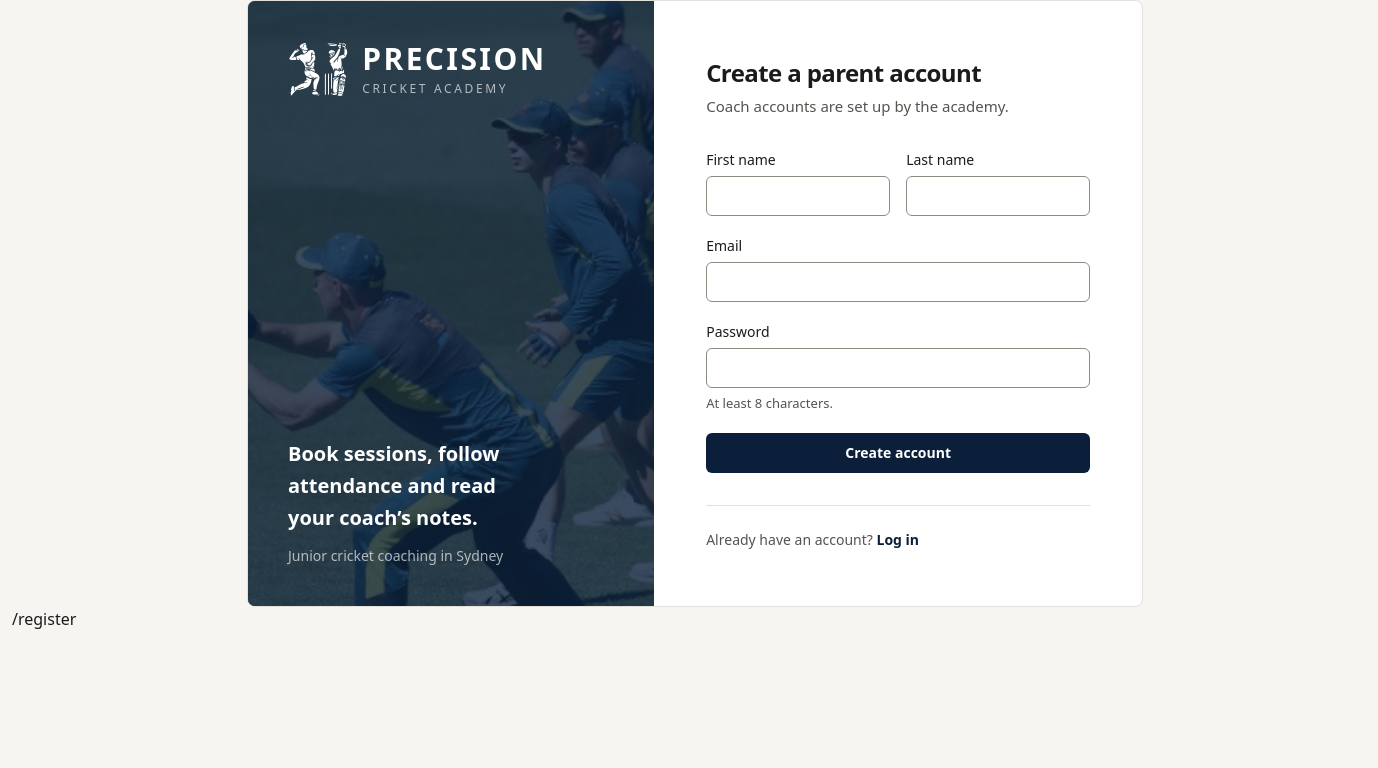
Test: RegisterPage › checks the password length before sending anything
The width and height of the screenshot is (1378, 768).
Type "Alex" into the field labelled "First name" at (798, 196), box [706,176,890,216]
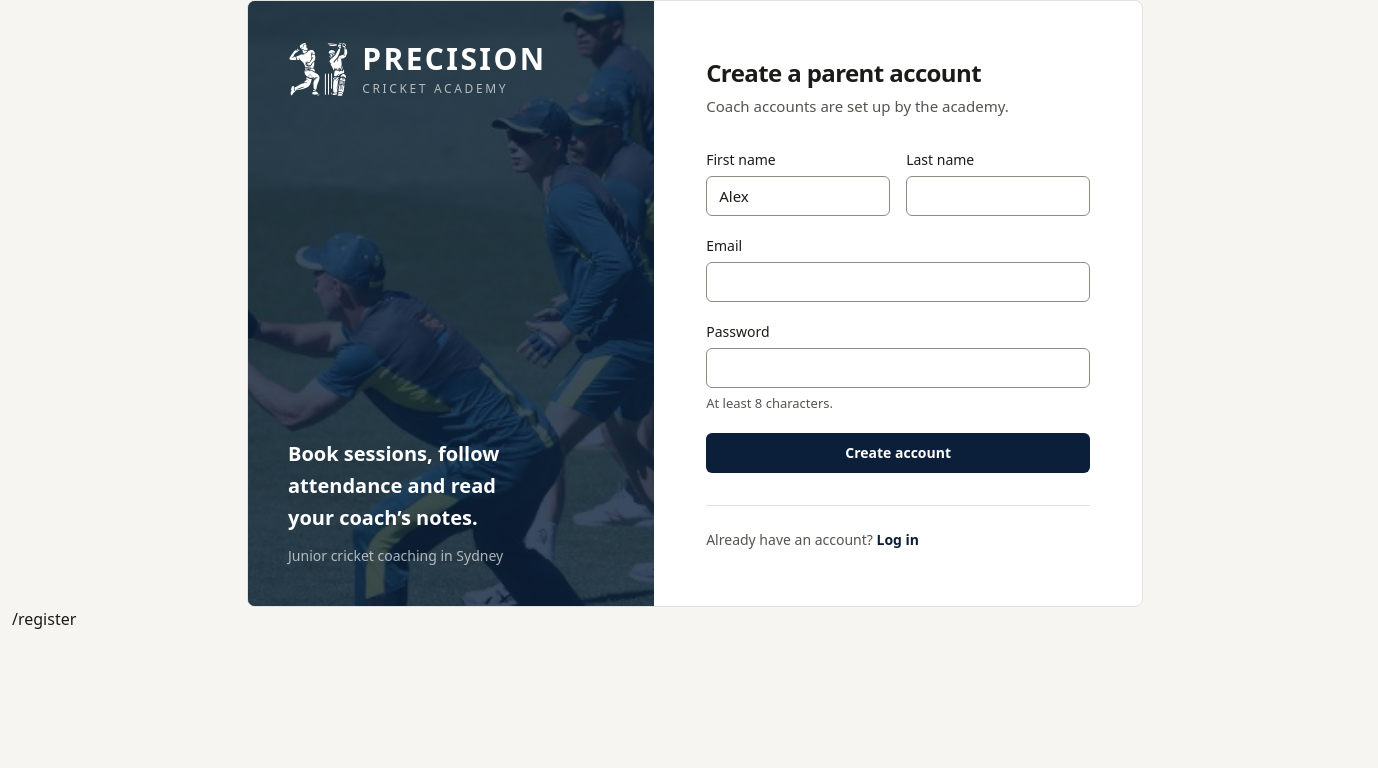
Type "Taylor" into the field labelled "Last name" at (998, 196), box [906,176,1090,216]
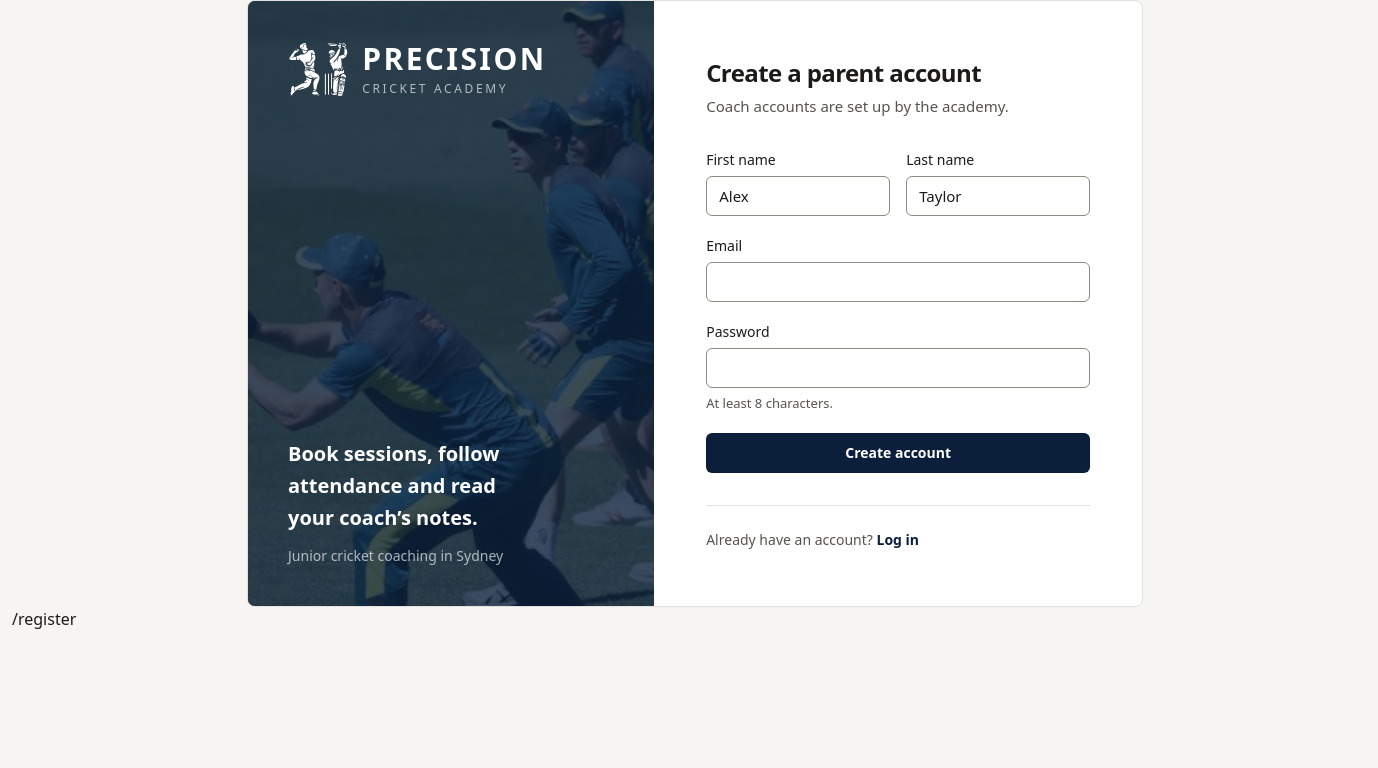
Type "parent@example.com" into the field labelled "Email" at (898, 282), box [706,262,1090,302]
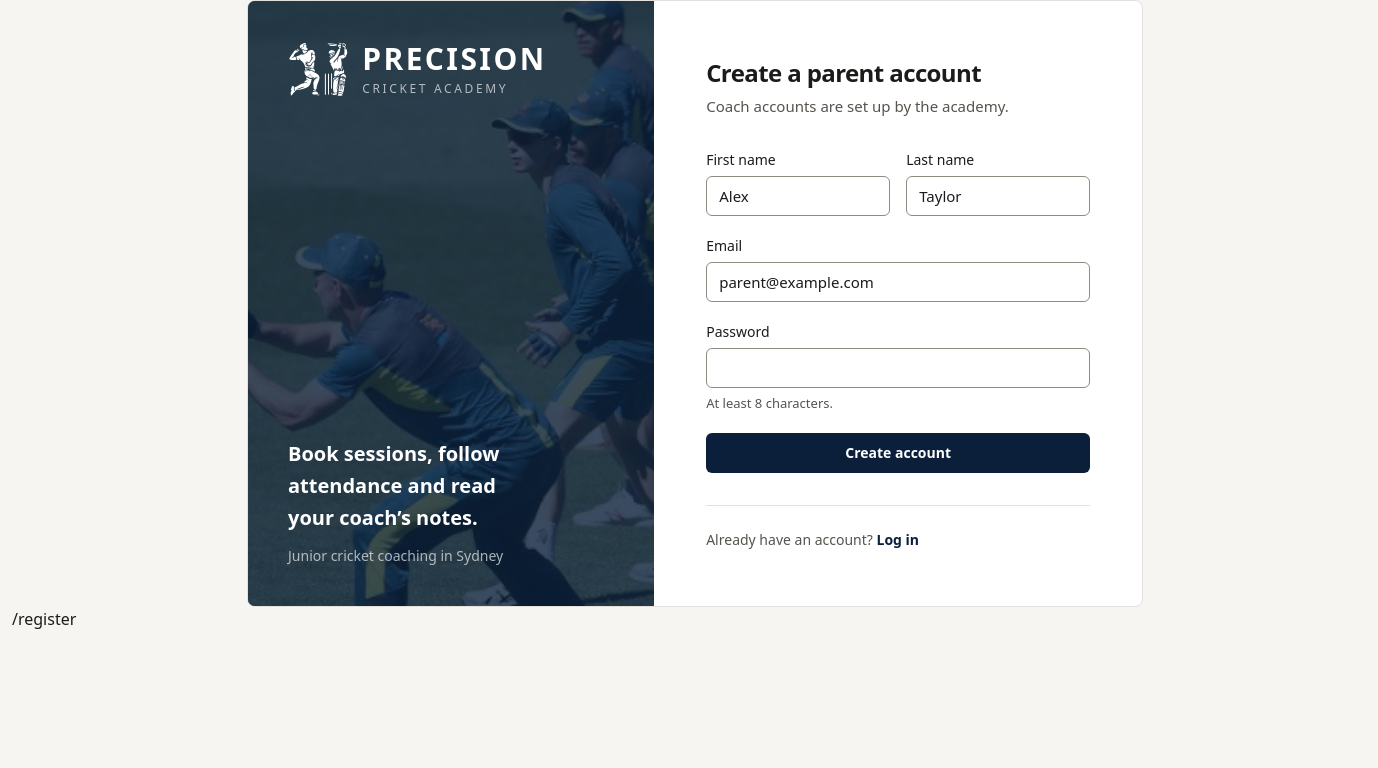
Type "short" into the password field labelled "Password" at (898, 368), box [706,348,1090,388]
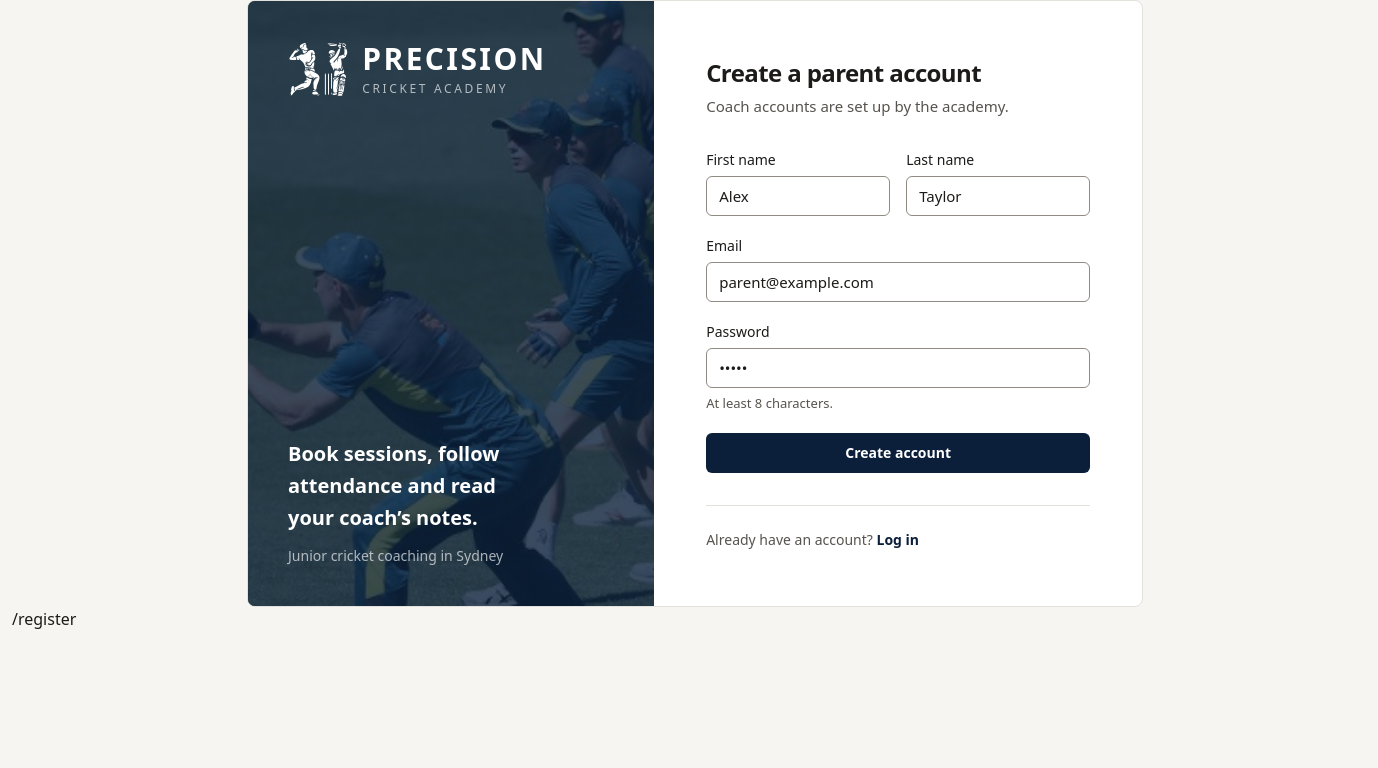
Click the button "Create account" at (898, 453), box [706,433,1090,473]
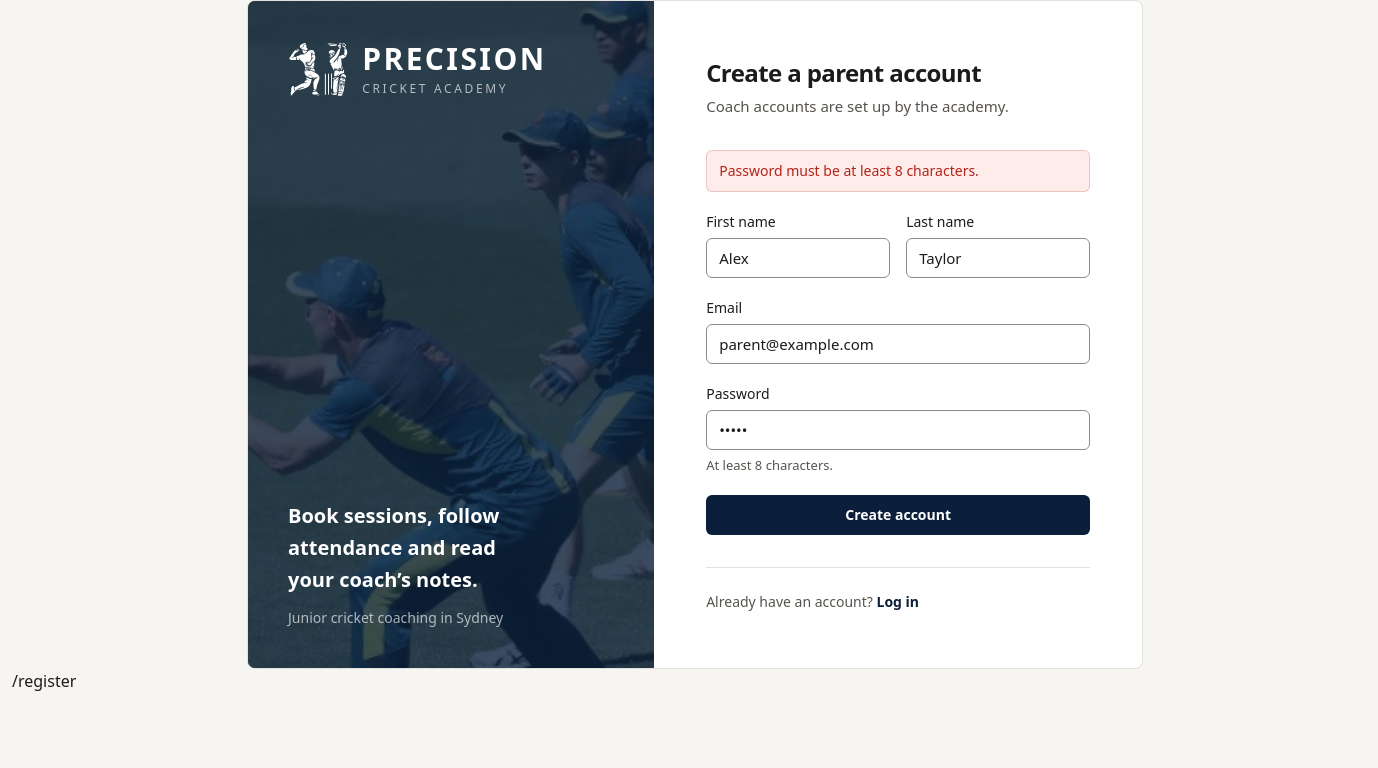
Expected: the message shows "at least 8 characters", [719,160,979,180]
